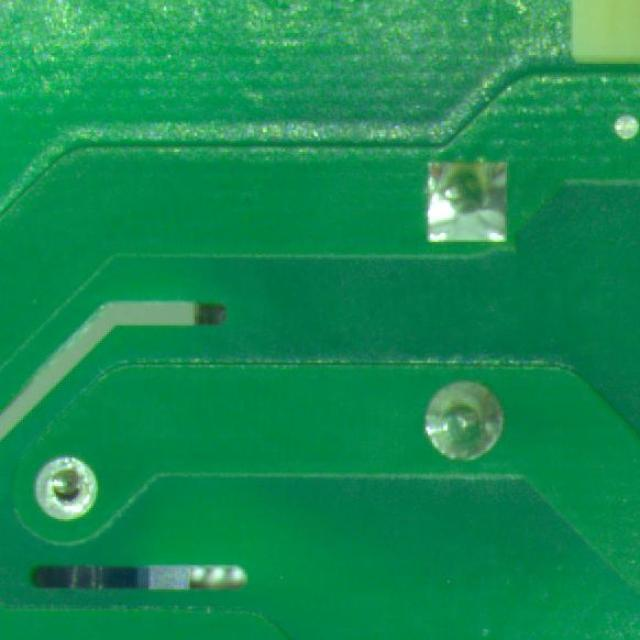Insufficient solder: (24, 453, 104, 540)
